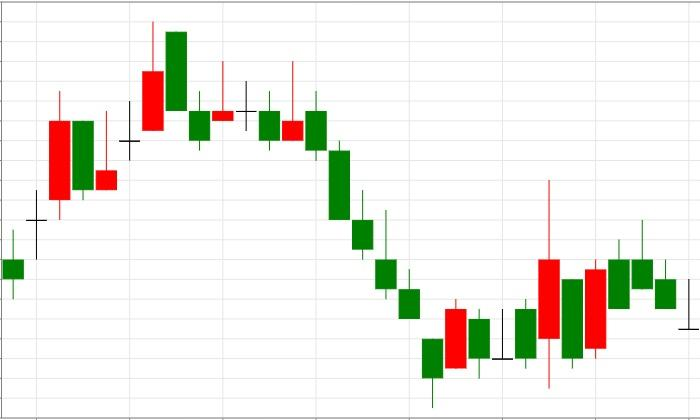inverse_hammer_rise: (165, 31, 305, 151)
shooting_star_fall: (2, 91, 117, 300)
